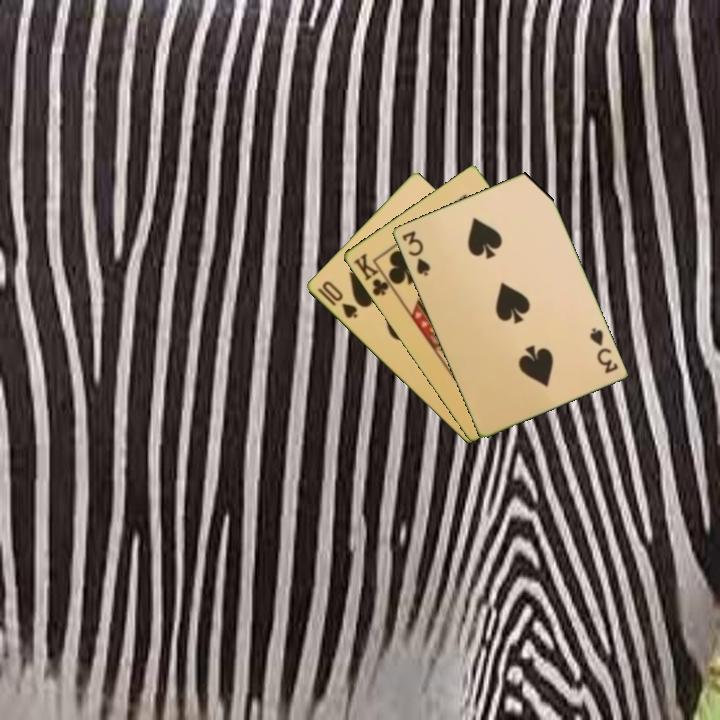10s: (314, 277, 360, 321)
3s: (585, 324, 621, 376), (398, 227, 433, 279)
Kc: (349, 249, 396, 299)
